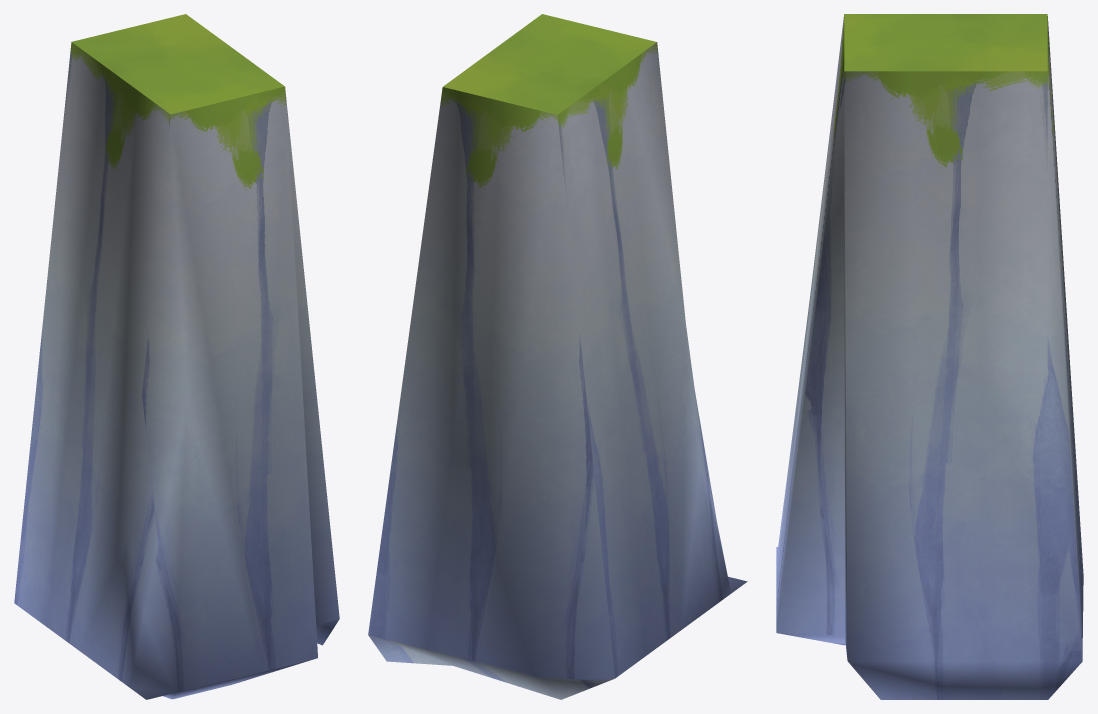
The model's file is rockeroo.glb.
3 renders of one model, left to right at view 1: azimuth 30°, elevation 25°; view 2: azimuth 150°, elevation 25°; view 3: azimuth 270°, elevation 25°, orthographic. The views are drawn at different scales.
Parts seen in each view (by area): view 1: rockeroo; view 2: rockeroo; view 3: rockeroo.
Boxes of the visible parts, x1,y1,x2,y2 form: rockeroo: (14,14,339,699); rockeroo: (368,14,747,699); rockeroo: (776,14,1083,699).
Bounding box in the file's own units: 20 × 49.86 × 22.65.
Materials: 2 (2 with a texture image).
